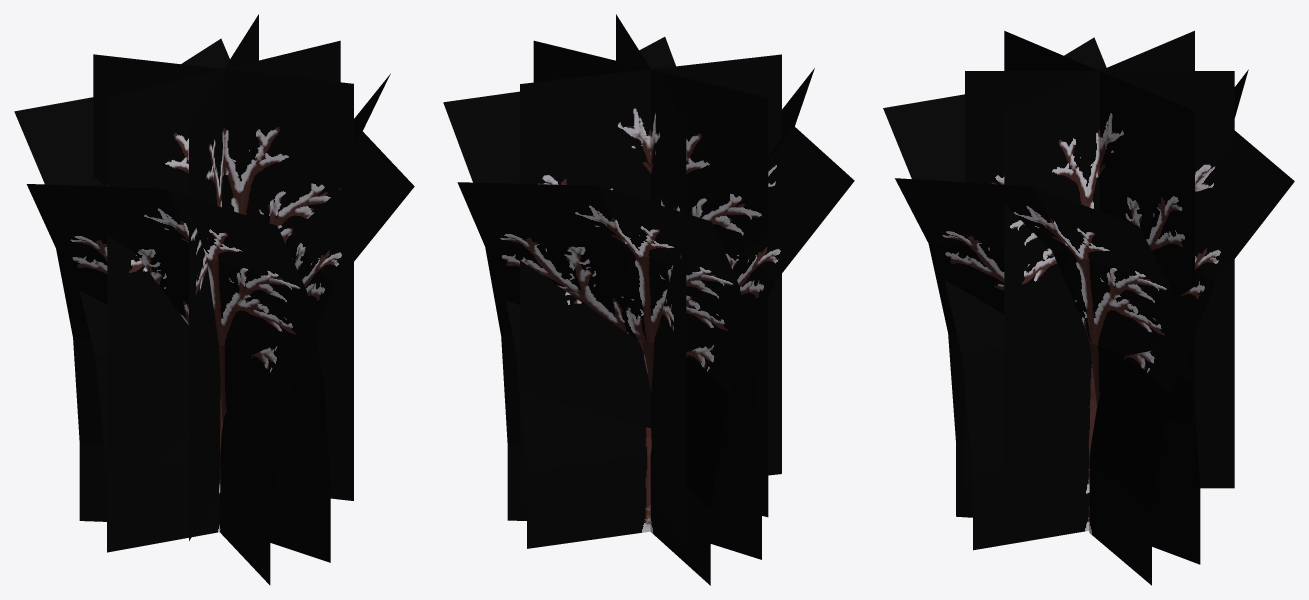
File: bush_1.fbx
3 renders of one model, left to right at view 1: azimuth 30°, elevation 25°; view 2: azimuth 150°, elevation 25°; view 3: azimuth 270°, elevation 25°, orthographic.
Parts seen in each view (by area): view 1: stickbush_1_bush; view 2: stickbush_1_bush; view 3: stickbush_1_bush.
Boxes of the visible parts, x1,y1,x2,y2 form: stickbush_1_bush: [14, 14, 414, 585]; stickbush_1_bush: [443, 14, 854, 585]; stickbush_1_bush: [883, 30, 1294, 585].
Bounding box in the file's own units: 97.05 × 110 × 89.43.
